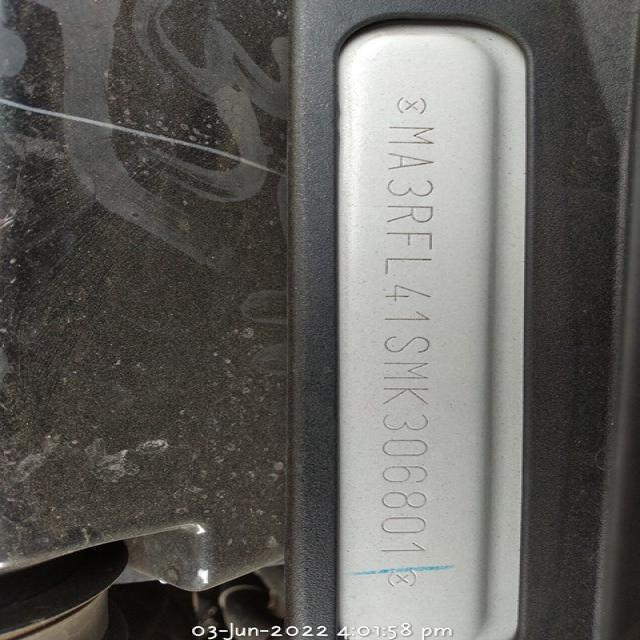damage: (9, 94, 278, 190)
